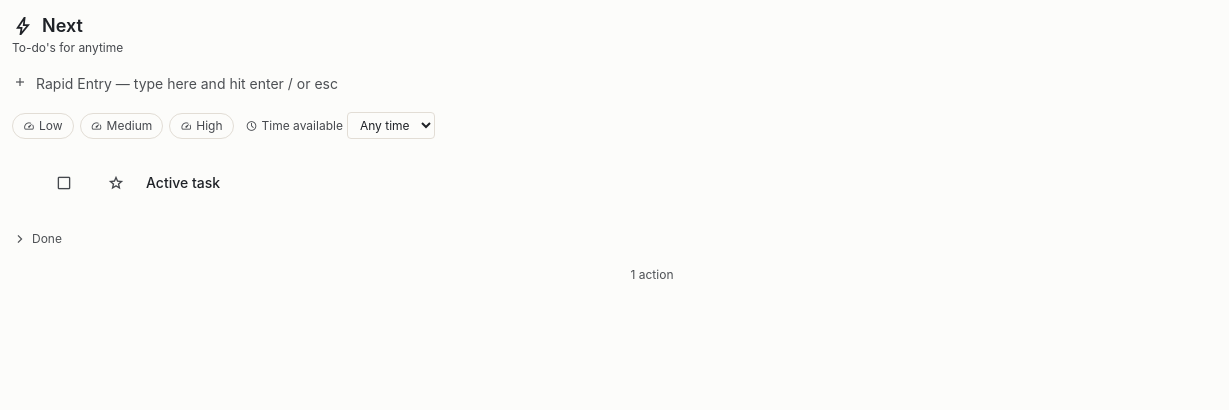
ActionList › expands Done section to show completed items
Click the button with aria-label "Expand Done".
click(37, 239)  # box 12,227 -> 62,251
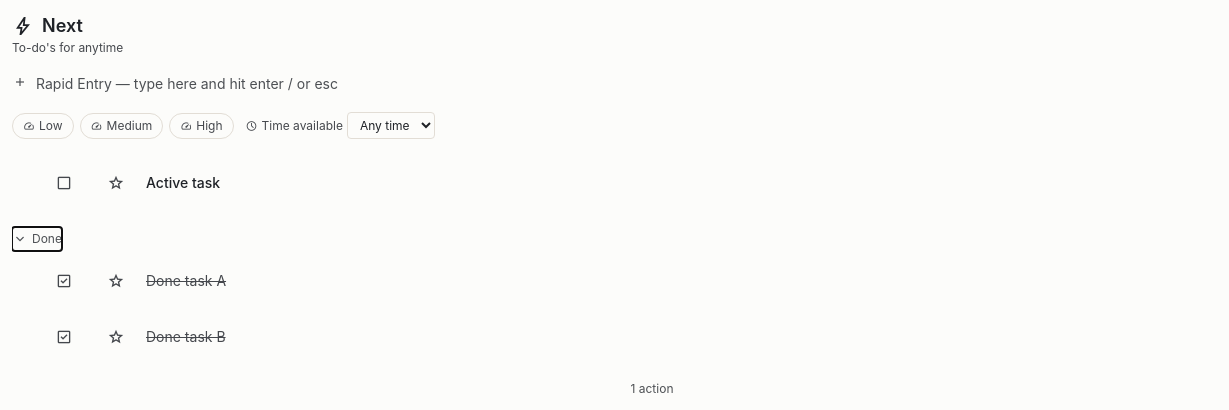
expect the button "Done task A" is shown: met, box 146,271 -> 1212,291
expect the button "Done task B" is shown: met, box 146,327 -> 1212,347
